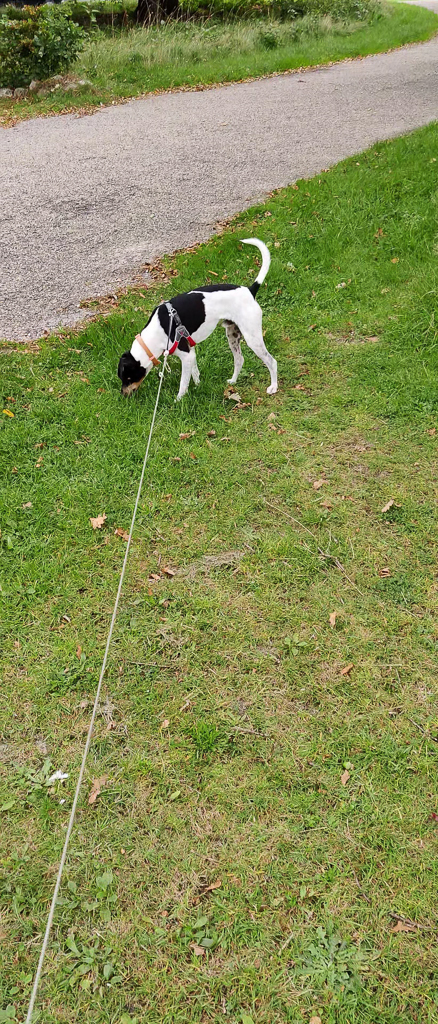Dog: (105, 232, 286, 408)
